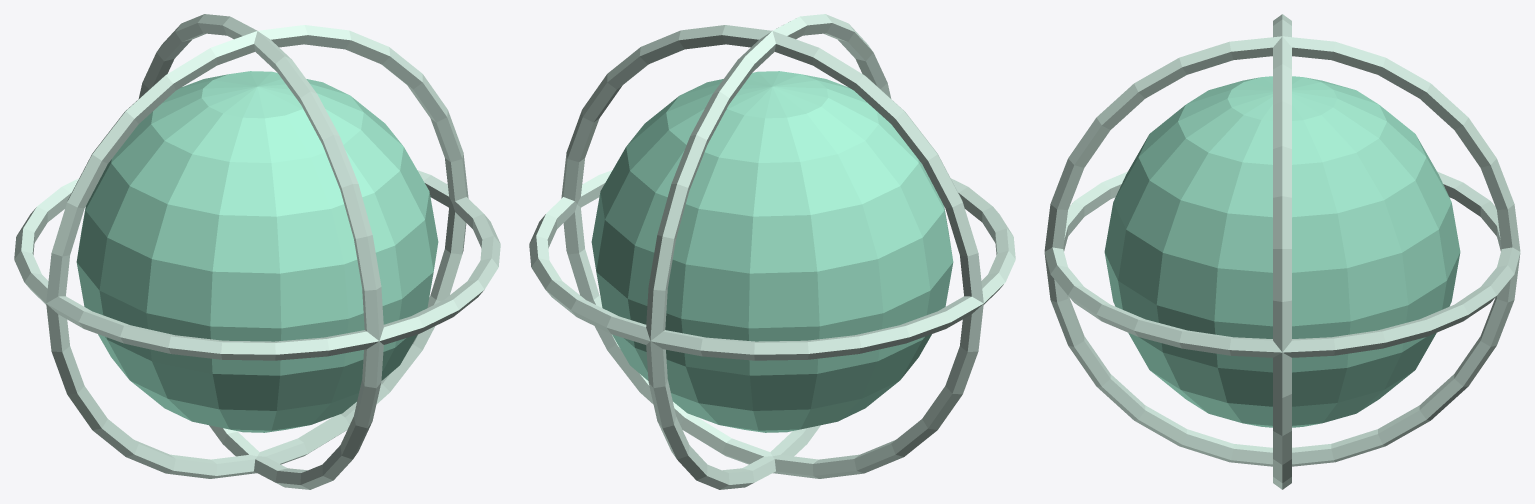
Rendered from nucleo.glb.
3 views of the same model, side by side, from view 1: azimuth 30°, elevation 25°; view 2: azimuth 150°, elevation 25°; view 3: azimuth 270°, elevation 25° (orthographic). The views are drawn at different scales.
Visible parts, largest first — view 1: nucleo; view 2: nucleo; view 3: nucleo.
Part boxes in pixels (bbox=[...]): nucleo: bbox=[14, 14, 500, 489]; nucleo: bbox=[529, 14, 1015, 489]; nucleo: bbox=[1044, 14, 1520, 489].
Bounding box in the file's own units: 0.856 × 0.856 × 0.856.
